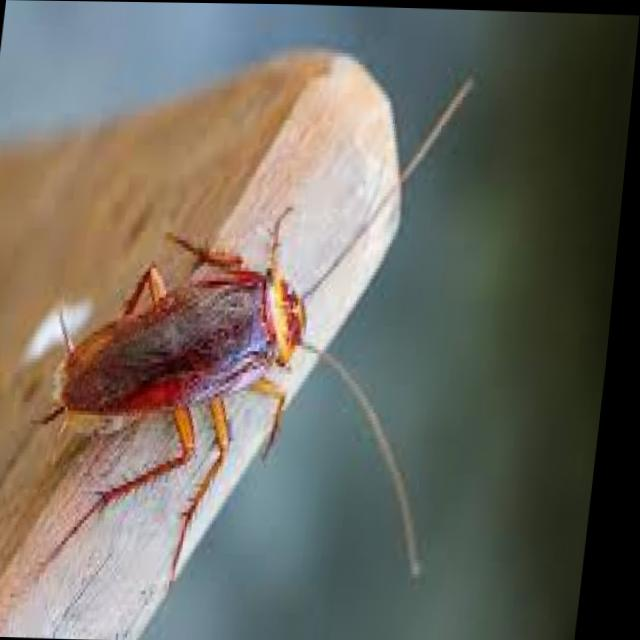Cockroach: (20, 50, 498, 610)
